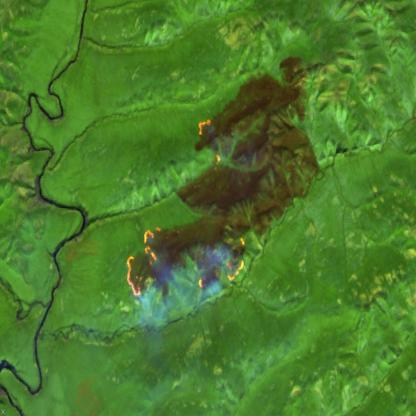fire: (124, 224, 248, 302), (195, 118, 223, 168)
